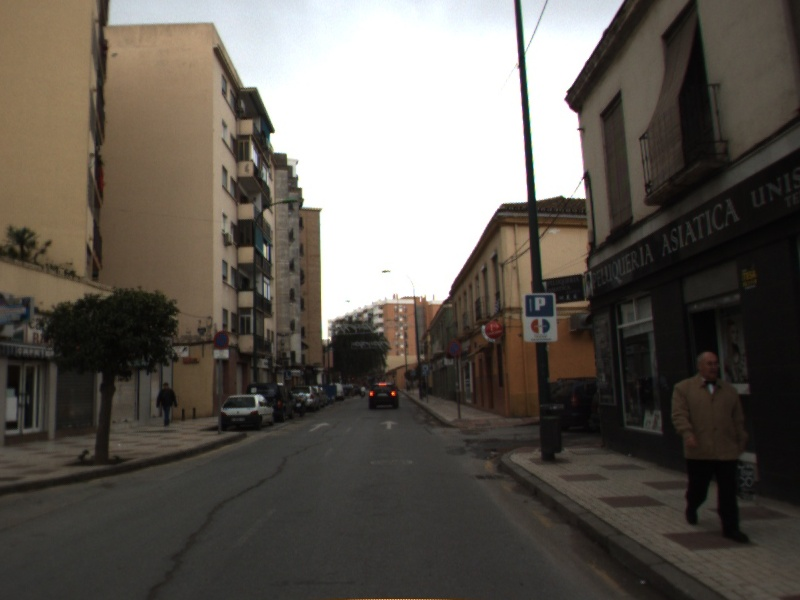STRAIGHT: (306, 420, 333, 434), (378, 418, 401, 431)
